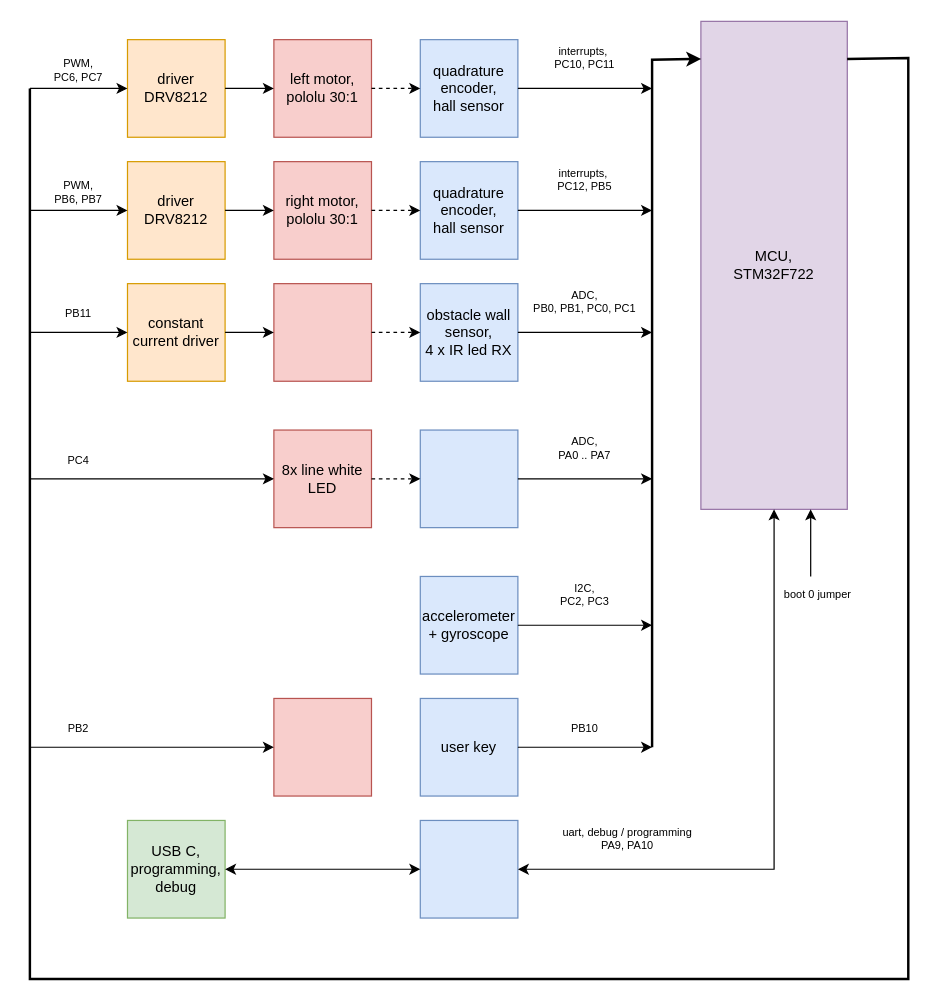
Image size: 932x1003. Some labels were removed from this diagram. Here are the shapes that lost their labels. From the top down, the centre of each, then its label:
point (322, 331): 4x IR LED TX
point (468, 478): line sensor, 8x phototransistor
point (322, 746): user led
point (468, 868): usb to uart, CH340
